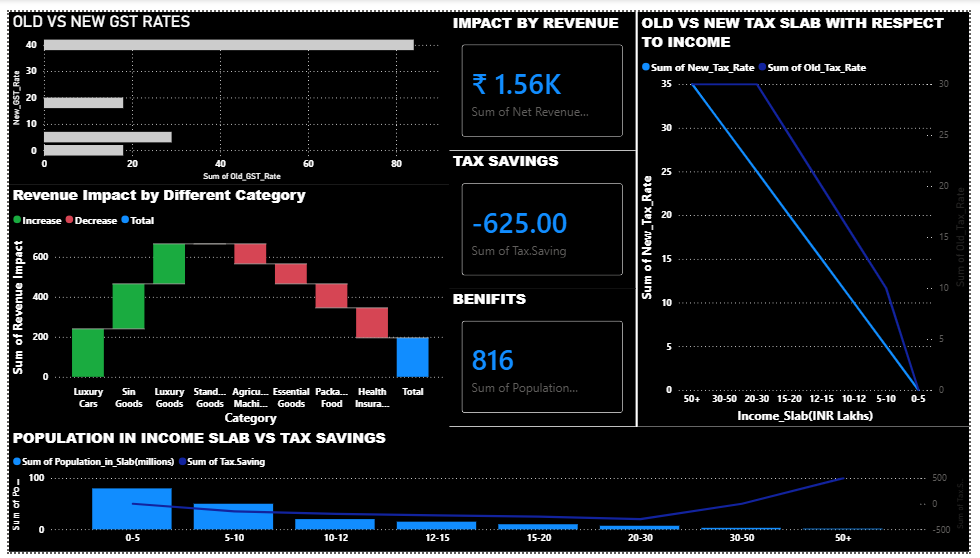

Layout of this report page (visuals, bound fields, positions):
{"tool":"powerbi","page":{"name":"Financial year 2025","canvas":[1280,720],"ordinal":0},"visuals":[{"type":"clusteredBarChart","title":"OLD VS NEW GST RATES ","fields":{"Category":["GST_Reforms.New_GST_Rate"],"Y":["Sum(GST_Reforms.Old_GST_Rate)"]},"box":[0,0,587.1,230.4],"z":0},{"type":"waterfallChart","title":" Revenue Impact by Different Category","fields":{"Y":["Sum(GST_Reforms.Revenue Impact)"],"Category":["GST_Reforms.Category"]},"box":[0,230.4,587.1,326],"z":1000},{"type":"cardVisual","title":"IMPACT BY REVENUE ","fields":{"Data":["Sum(GST_Reforms.Net Revenue Impact)"]},"box":[587.1,0,249.2,184.3],"z":2000},{"type":"cardVisual","title":"BENIFITS ","fields":{"Data":["Sum(GST_Reforms.Population Benefited)"]},"box":[587.1,368.6,249.2,184.3],"z":3000},{"type":"cardVisual","title":"TAX SAVINGS ","fields":{"Data":["Sum(Tax_Reforms.Tax.Saving)"]},"box":[587.1,184.3,249.2,184.3],"z":4000},{"type":"lineChart","title":"OLD VS NEW TAX SLAB WITH RESPECT TO INCOME","fields":{"Y":["Sum(Tax_Reforms.New_Tax_Rate)"],"Y2":["Sum(Tax_Reforms.Old_Tax_Rate)"],"Category":["Tax_Reforms.Income_Slab(INR Lakhs)"]},"box":[837.5,0,442.5,552.5],"z":5000},{"type":"lineClusteredColumnComboChart","title":"POPULATION IN INCOME SLAB VS TAX SAVINGS ","fields":{"Category":["Tax_Reforms.Income_Slab(INR Lakhs)"],"Y":["Sum(Tax_Reforms.Population_in_Slab(millions))"],"Y2":["Sum(Tax_Reforms.Tax.Saving)"]},"box":[0,553.3,1280,166.7],"z":6000}]}

Visuals, with their boxes in screenshot pixels (x1, y1, x2, y2), scaled from the page's 1280x720 canvas onto the 980x558 screenshot:
"OLD VS NEW GST RATES " clusteredBarChart: 0 0 449 179
" Revenue Impact by Different Category" waterfallChart: 0 179 449 431
"IMPACT BY REVENUE " cardVisual: 449 0 640 143
"BENIFITS " cardVisual: 449 286 640 428
"TAX SAVINGS " cardVisual: 449 143 640 286
"OLD VS NEW TAX SLAB WITH RESPECT TO INCOME" lineChart: 641 0 979 428
"POPULATION IN INCOME SLAB VS TAX SAVINGS " lineClusteredColumnComboChart: 0 429 979 557
